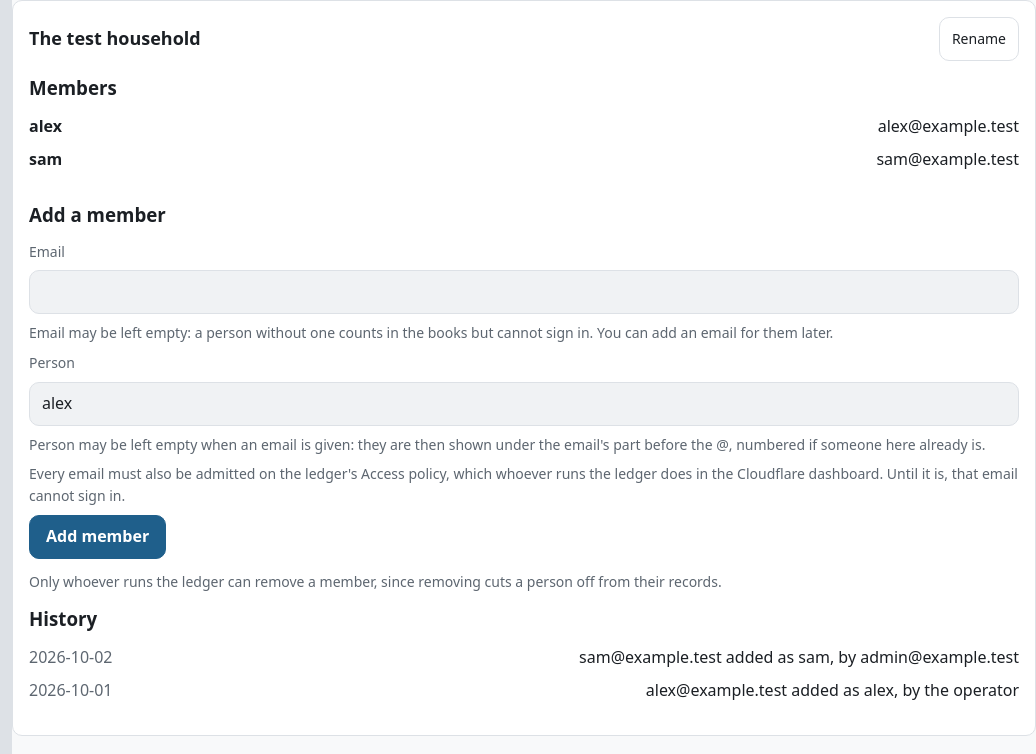
it: titles the page by the household's name, and a member renames it there
This screenshot has width=1036, height=754.
Expected: the heading "The test household" is shown, x1=29 y1=26 x2=201 y2=50
Click the button with aria-label "Rename The test household" at (979, 39), box x1=939 y1=17 x2=1019 y2=61
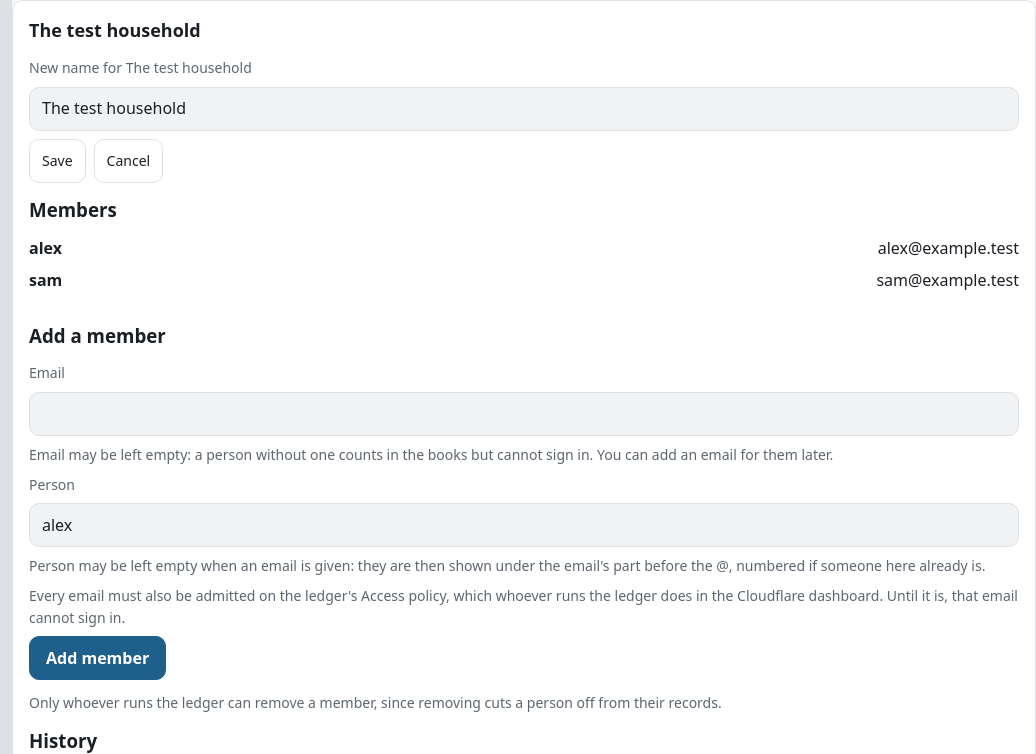
Now the field labelled "New name for The test household" holds "The test household"
Replace the text in the field labelled "New name for The test household" with "  Our place " at (524, 109), box x1=29 y1=87 x2=1019 y2=131
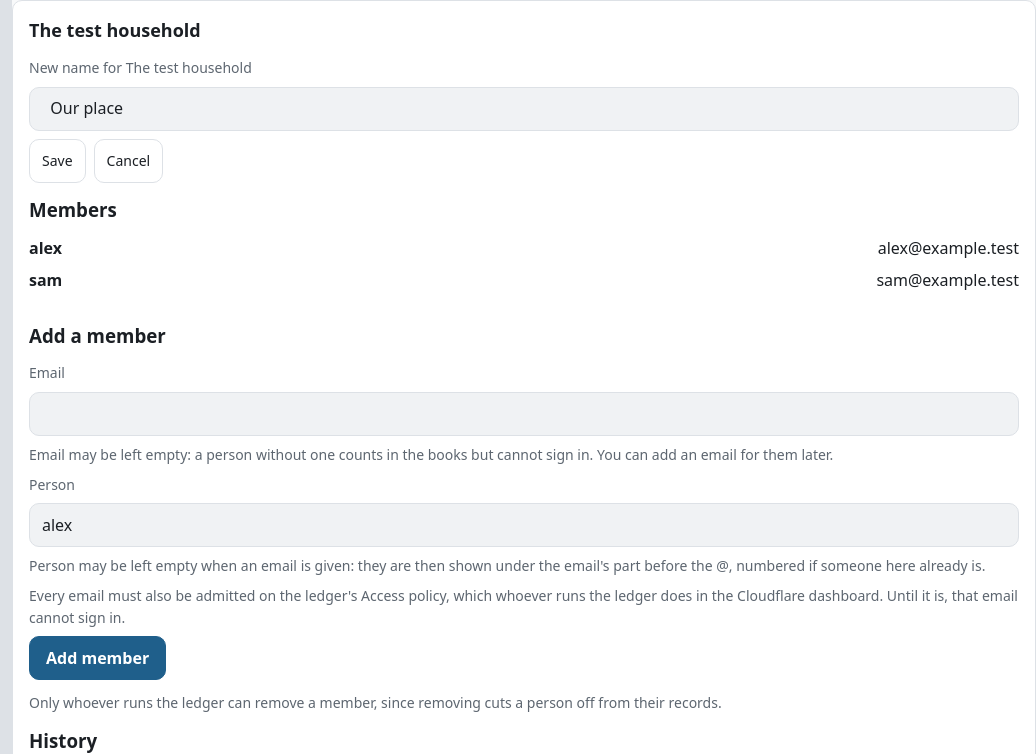
Click the button "Save" at (57, 161), box x1=29 y1=139 x2=86 y2=183
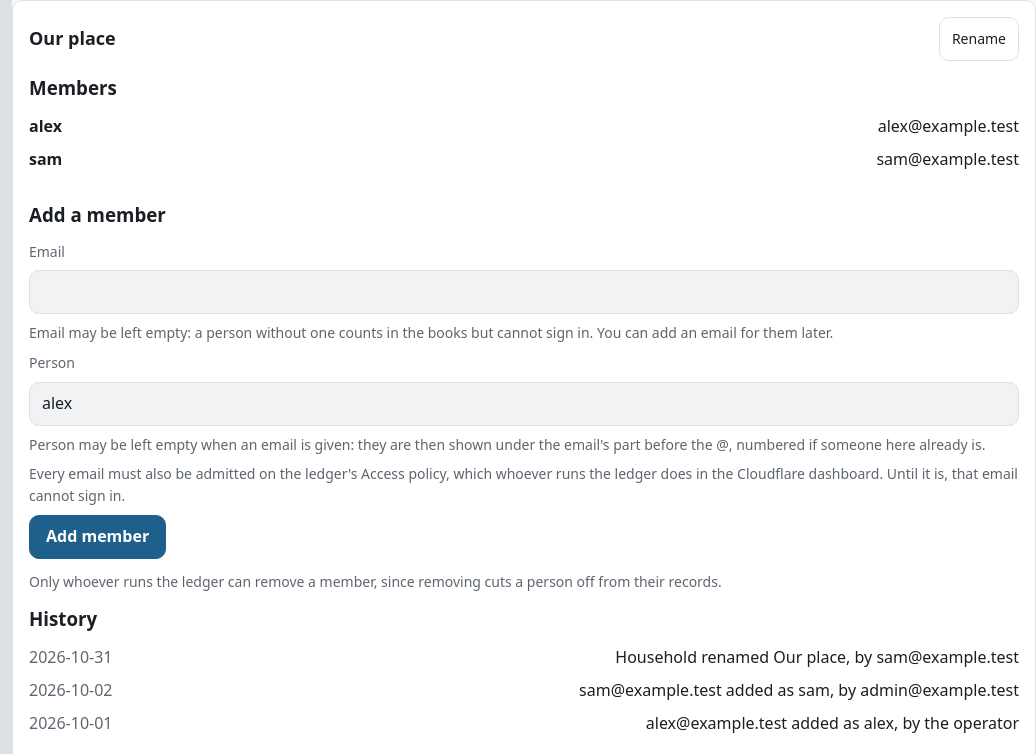
Now the heading "Our place" is shown, box x1=29 y1=26 x2=116 y2=50
Now the label labelled "New name for" is gone
Now the list item "2026-10-31 Household renamed Our place, by sam@example.test" reads "2026-10-31 Household renamed Our place, by sam@example.test", box x1=29 y1=645 x2=1019 y2=670
